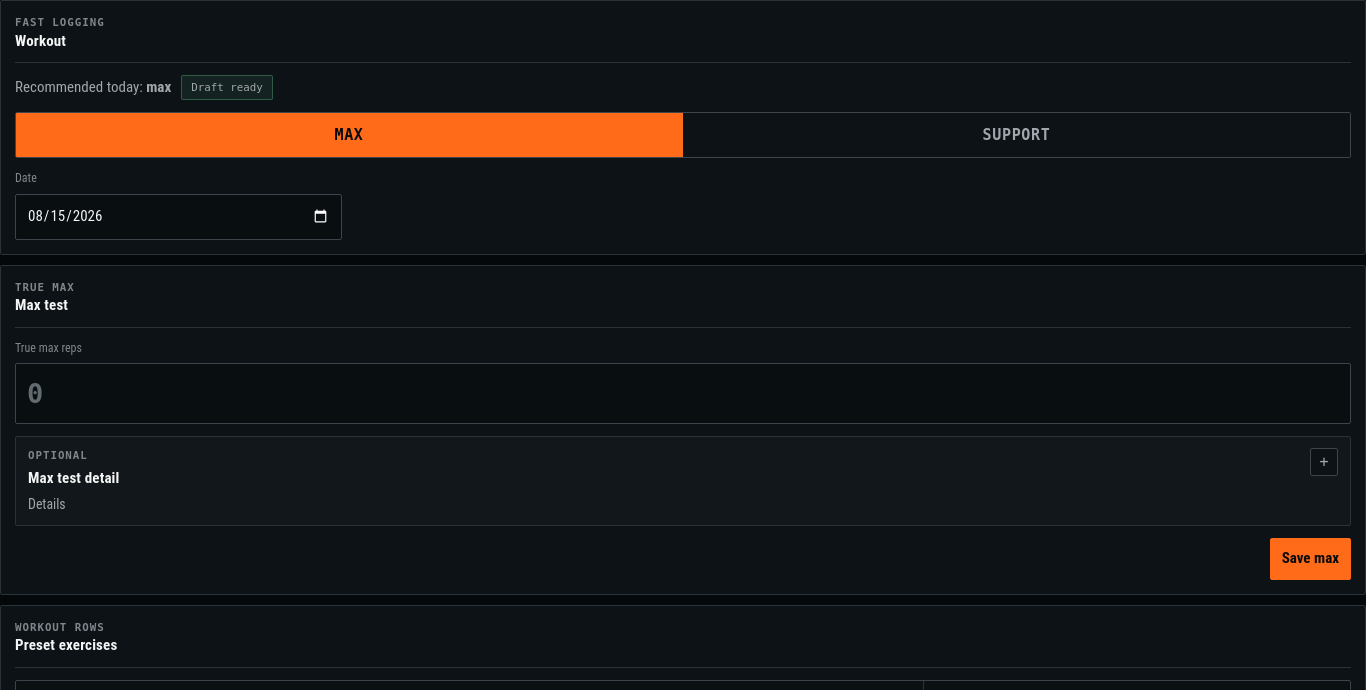
Scenario: LogWorkoutScreen preset rows › saves the max test step as an in-progress draft before workout rows
The image size is (1366, 690).
In the field labelled "True max reps": x=683, y=394 [15, 363, 1351, 424], type "12"
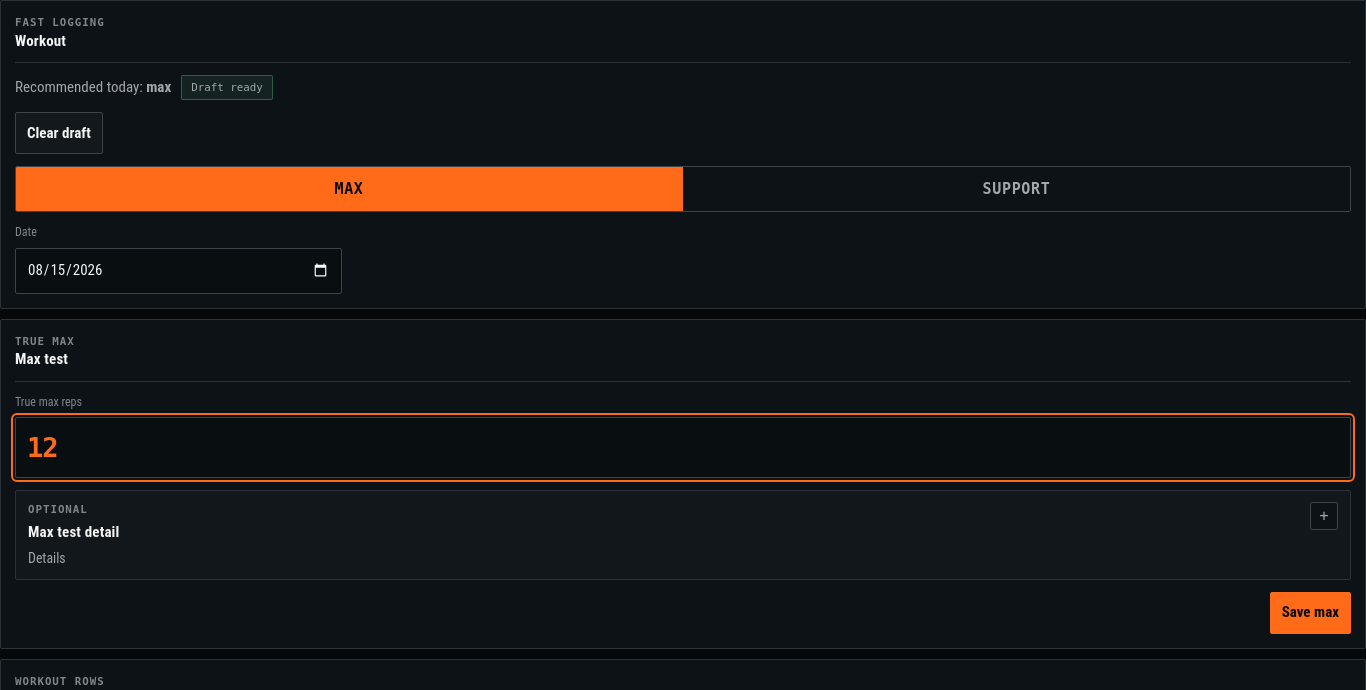
Click the button "Optional Max test detail Details +": x=58, y=510 [16, 492, 1350, 579]
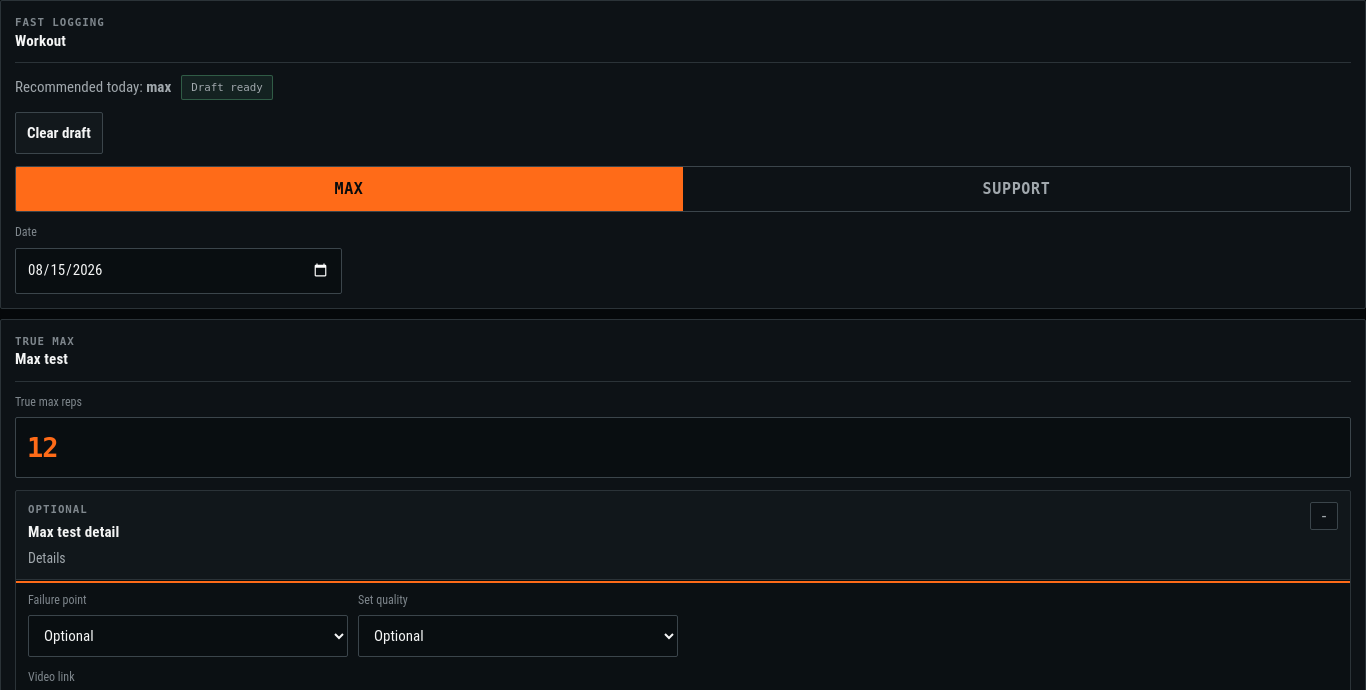
Select "clean" in the dropdown labelled "Set quality": x=518, y=636 [358, 615, 678, 657]
(page scrolled)
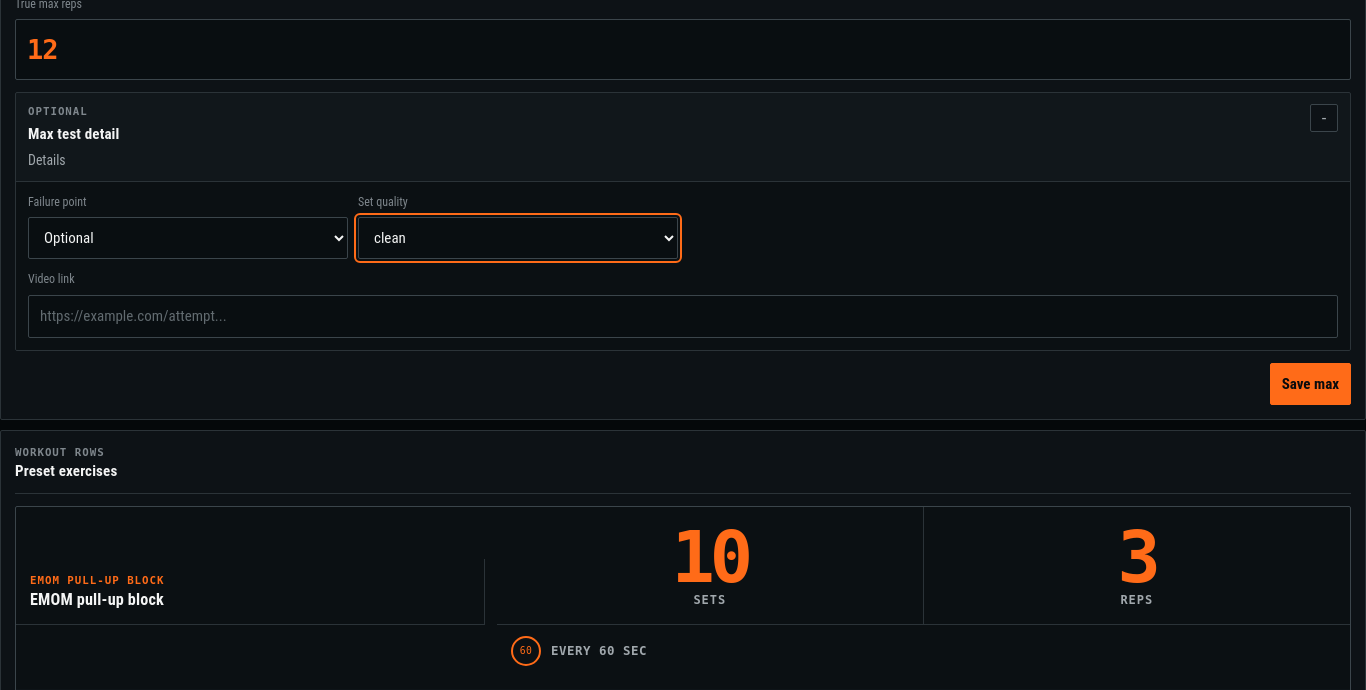
Click the button "Save max": x=1310, y=384 [1270, 363, 1351, 405]
(page scrolled)
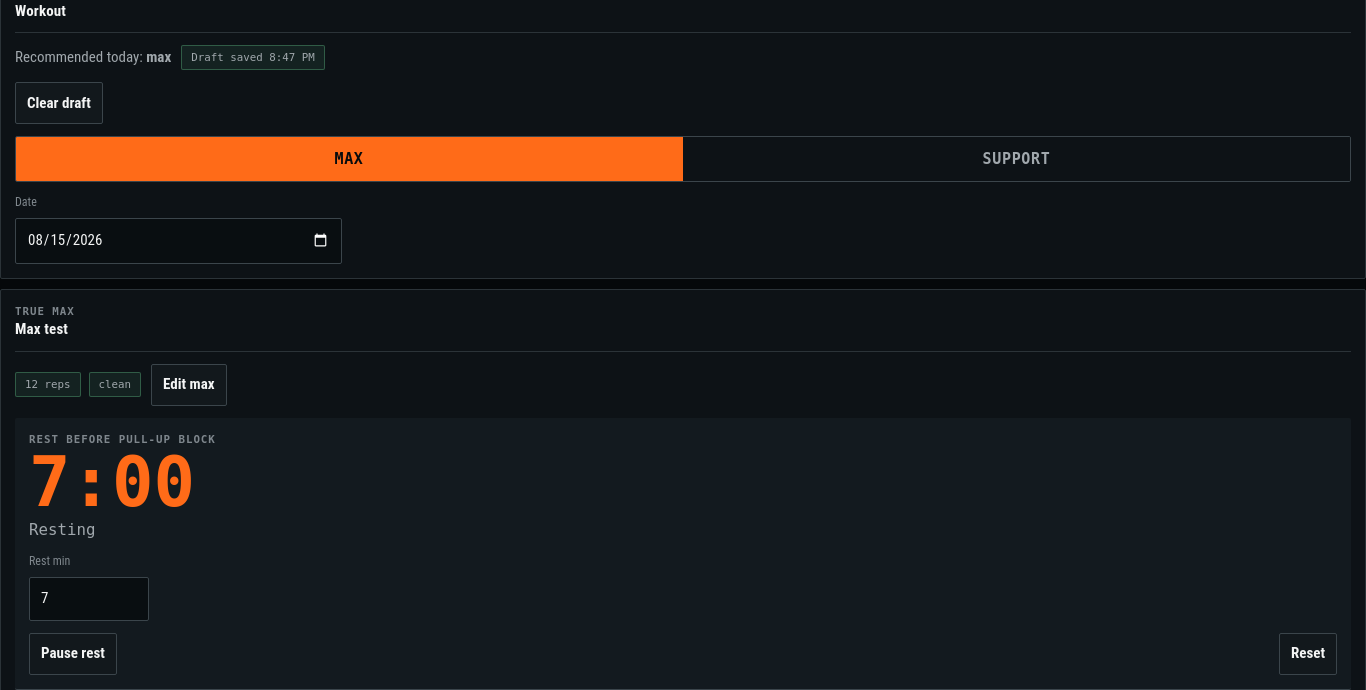
Expected: the text "12 reps" is shown, [15, 372, 80, 397]
Expected: the text "clean" is shown, [88, 372, 141, 397]
Expected: the text "Rest before pull-up block" is shown, [29, 433, 216, 446]
